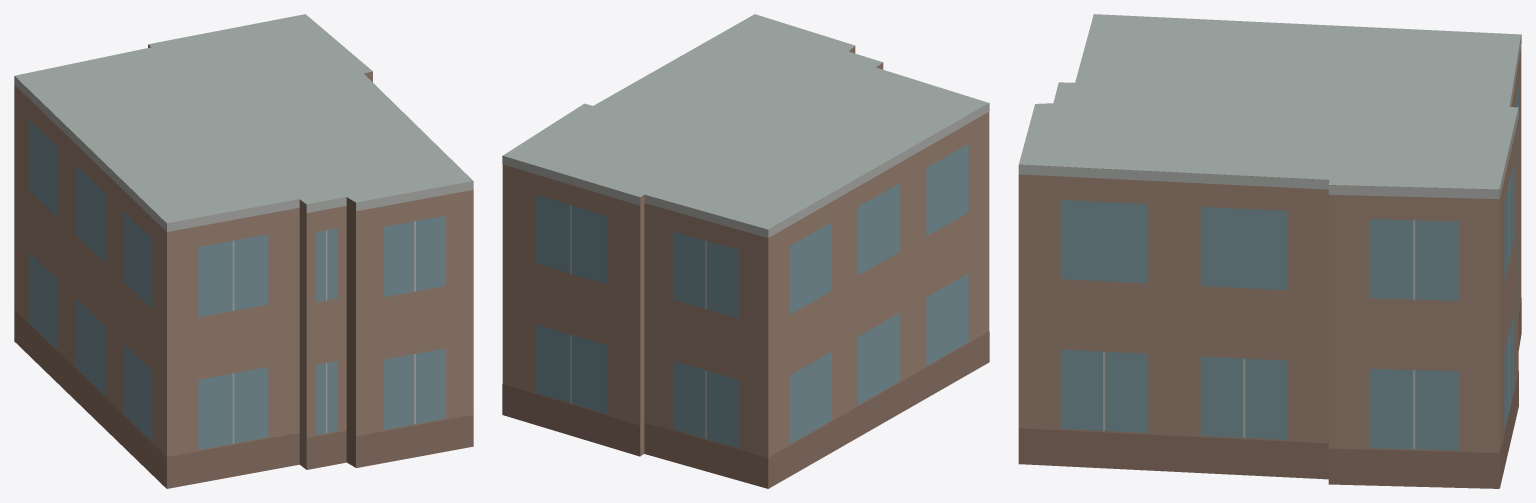
File: survey-upis-32505480.glb
3 renders of one model, left to right at view 1: azimuth 30°, elevation 25°; view 2: azimuth 150°, elevation 25°; view 3: azimuth 270°, elevation 25°, orthographic. The views are drawn at different scales.
Visible parts, largest first — view 1: survey-upis-32505480.tmp; view 2: survey-upis-32505480.tmp; view 3: survey-upis-32505480.tmp.
Part boxes in pixels (<box>): survey-upis-32505480.tmp: <box>14,14,473,488</box>; survey-upis-32505480.tmp: <box>502,14,989,488</box>; survey-upis-32505480.tmp: <box>1018,14,1521,488</box>.
Size of the model in its own units: 9.37 by 7.45 by 11.34.
